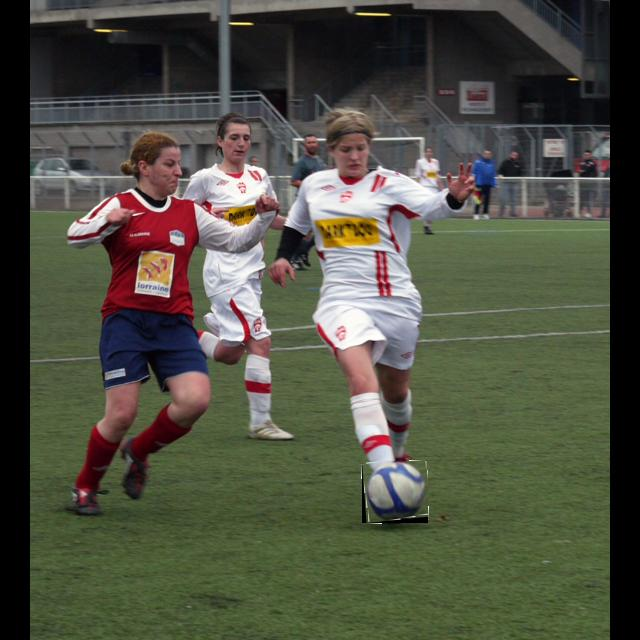Football: (362, 461, 428, 523)
